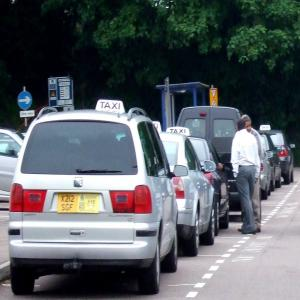Vehicle-registration-plate: (58, 194, 100, 215)
